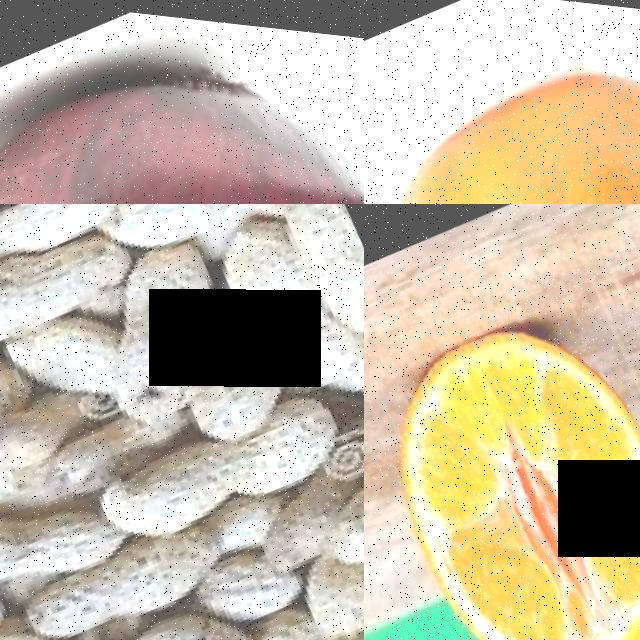onion: (0, 0, 364, 204)
orange: (364, 265, 640, 640), (365, 0, 640, 204)
peanuts: (109, 363, 362, 560), (72, 246, 245, 431), (25, 496, 242, 640), (203, 204, 364, 394), (0, 204, 127, 375), (0, 466, 131, 613), (197, 513, 327, 632), (307, 411, 364, 573), (0, 204, 142, 269), (103, 204, 241, 263), (132, 583, 263, 640), (295, 534, 364, 640)
